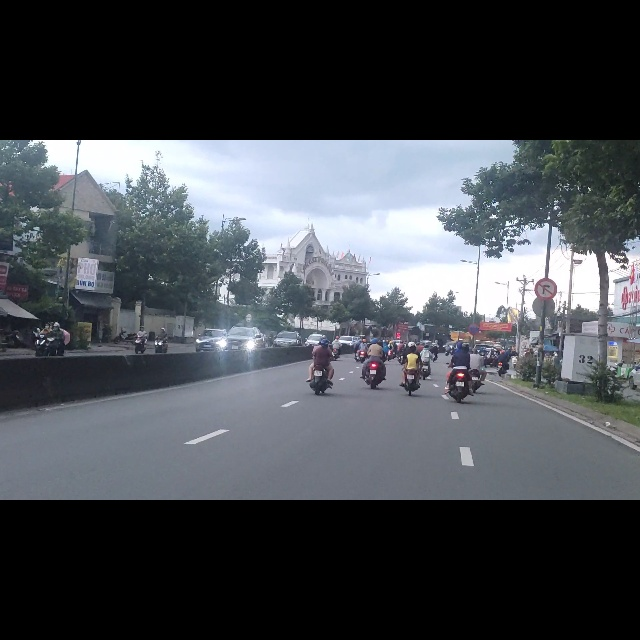bien_cam: (533, 244, 557, 284), (468, 327, 479, 347)
